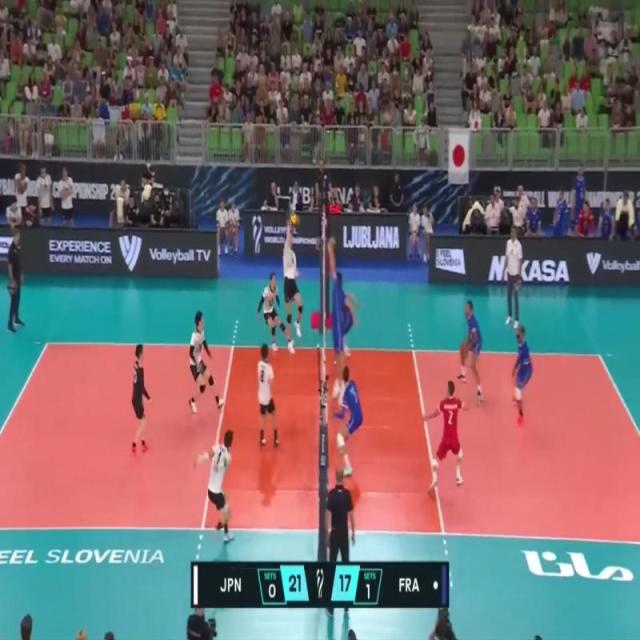volleyball: (288, 210, 298, 228)
